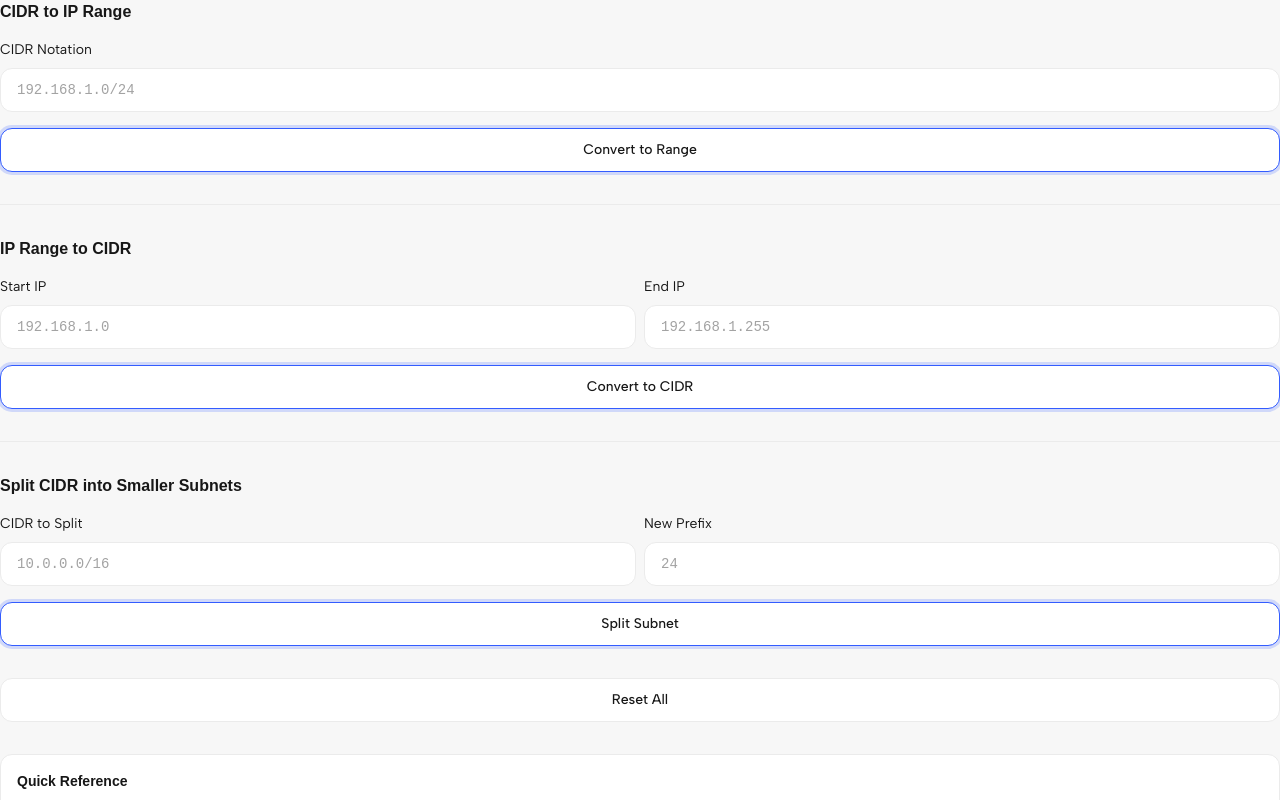
Test: CidrCalculatorTool › shows error when start or end IP is missing
The width and height of the screenshot is (1280, 800).
What coordinates should you click on to do the following:
click the button "Convert to CIDR"
I would click on:
 (640, 387)
Its box is [0,365,1279,409].
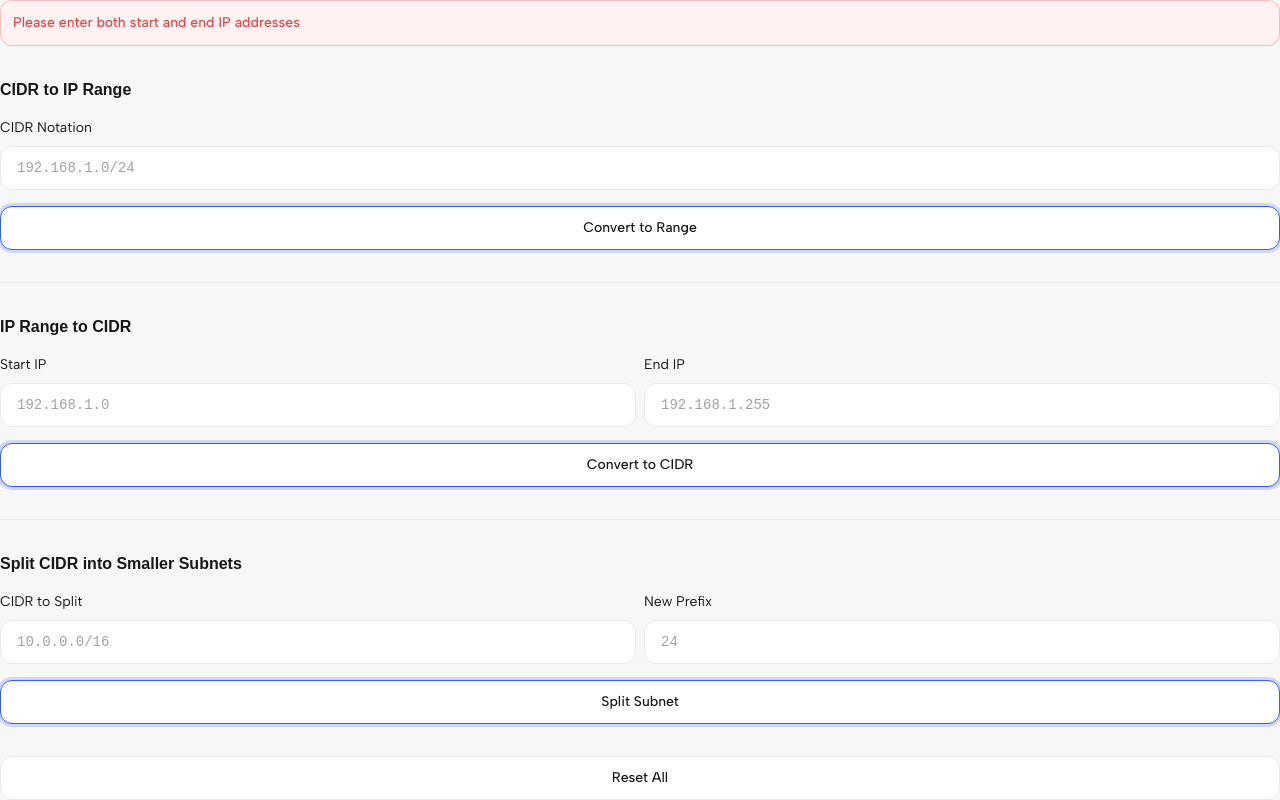
Expected: the text "Please enter both start and end IP addresses" is shown, [13,14,300,31]
